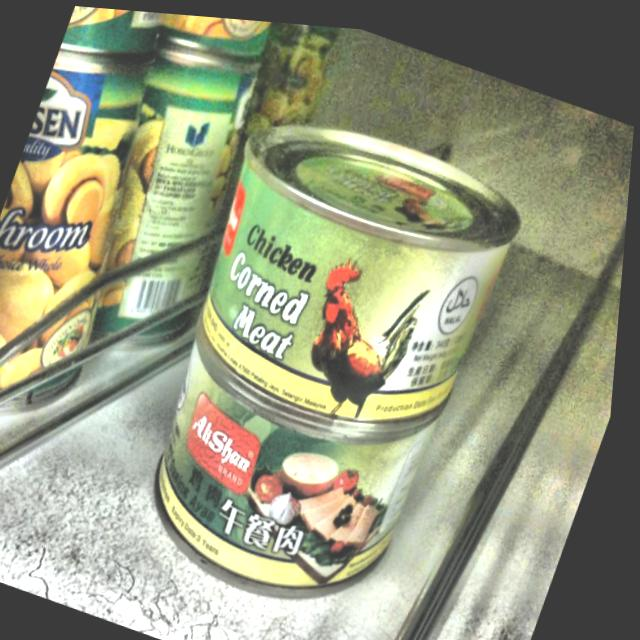Cans: (99, 93, 533, 640)
